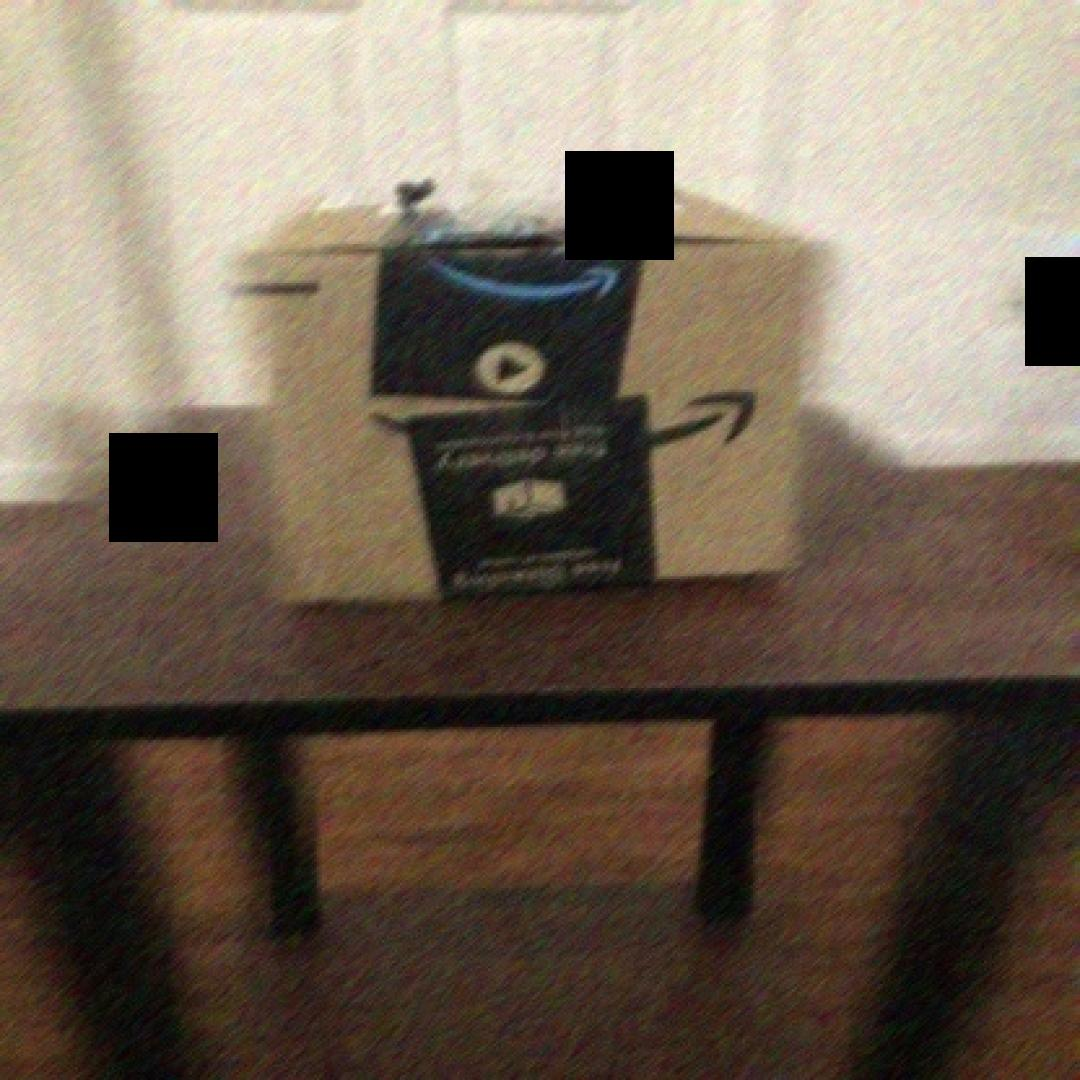package: (228, 168, 849, 610)
